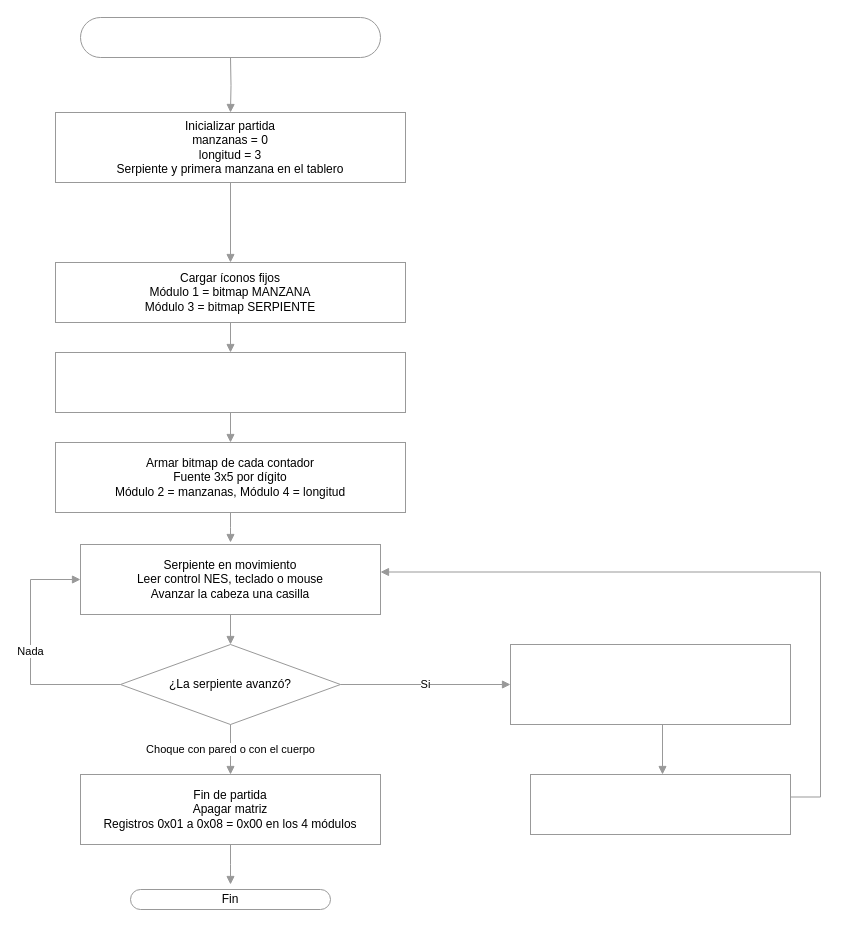
The diagram is 846 pixels wide and 927 high, and some of its shapes have lost their labels. The centre of each missing label's shape, as x and y in pixels:
"Actualizar solo módulos 2 y 4 Enviar no-op 0x0000 a módulos 1 y 3" belongs at point 660,804.
"Inicializar juego: Snake" belongs at point 230,37.
"longitud = longitud + 1 Si llegó a una manzana: manzanas = manzanas + 1" belongs at point 650,684.
"Separar dígitos manzanas: decenas y unidades longitud: decenas y unidades" belongs at point 230,382.
